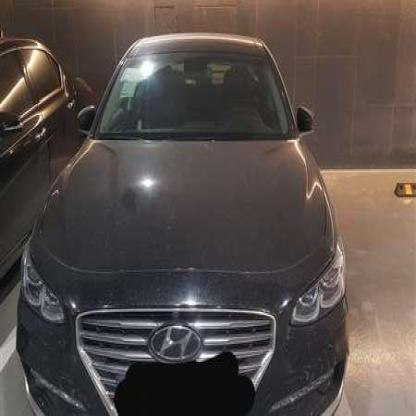Car: (24, 41, 348, 416), (0, 32, 99, 318)
